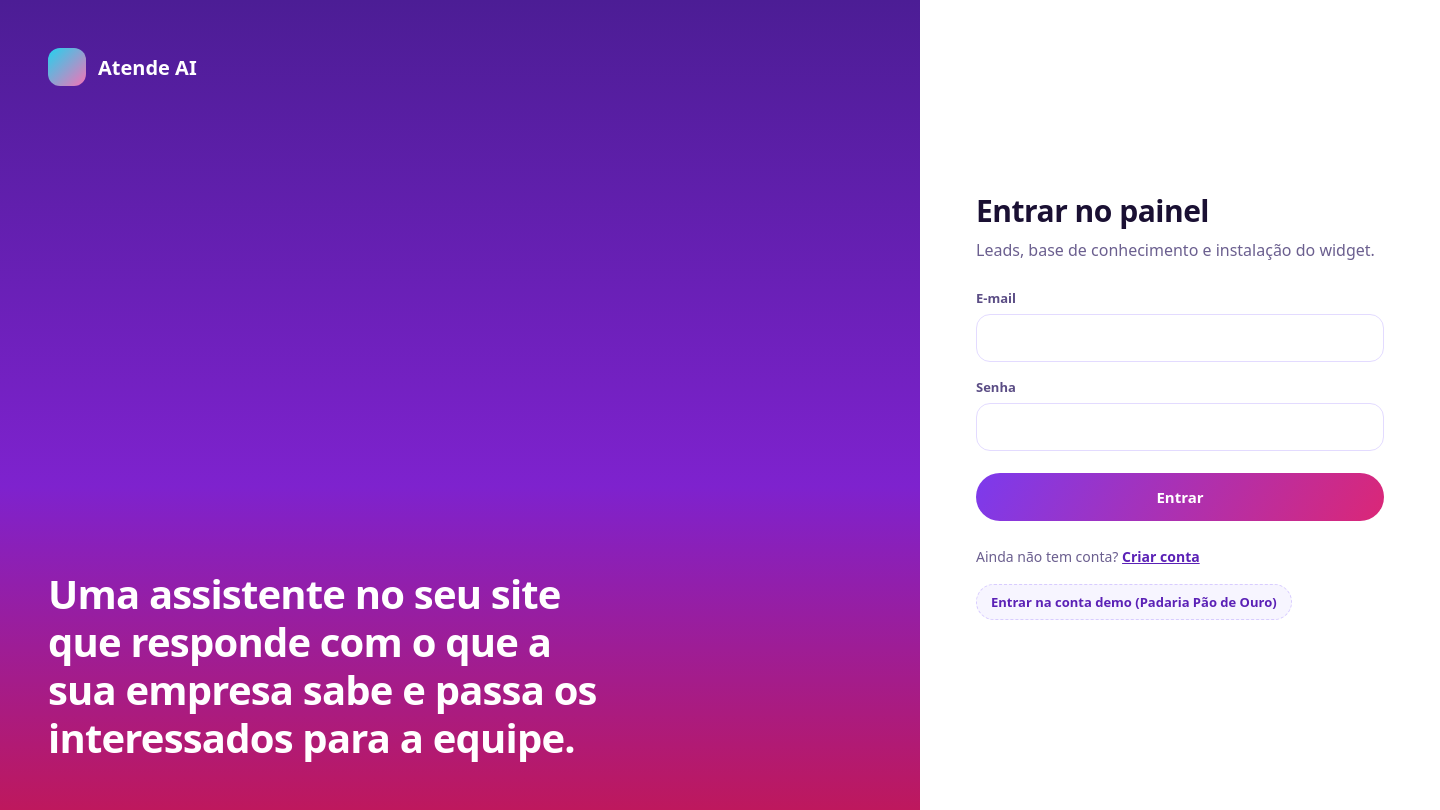
Scenario: acesso › sem login, manda para /entrar; ao entrar, volta para onde ia
In the field labelled "E-mail": (1180, 338) [976,314,1384,362], type "demo@x.com"
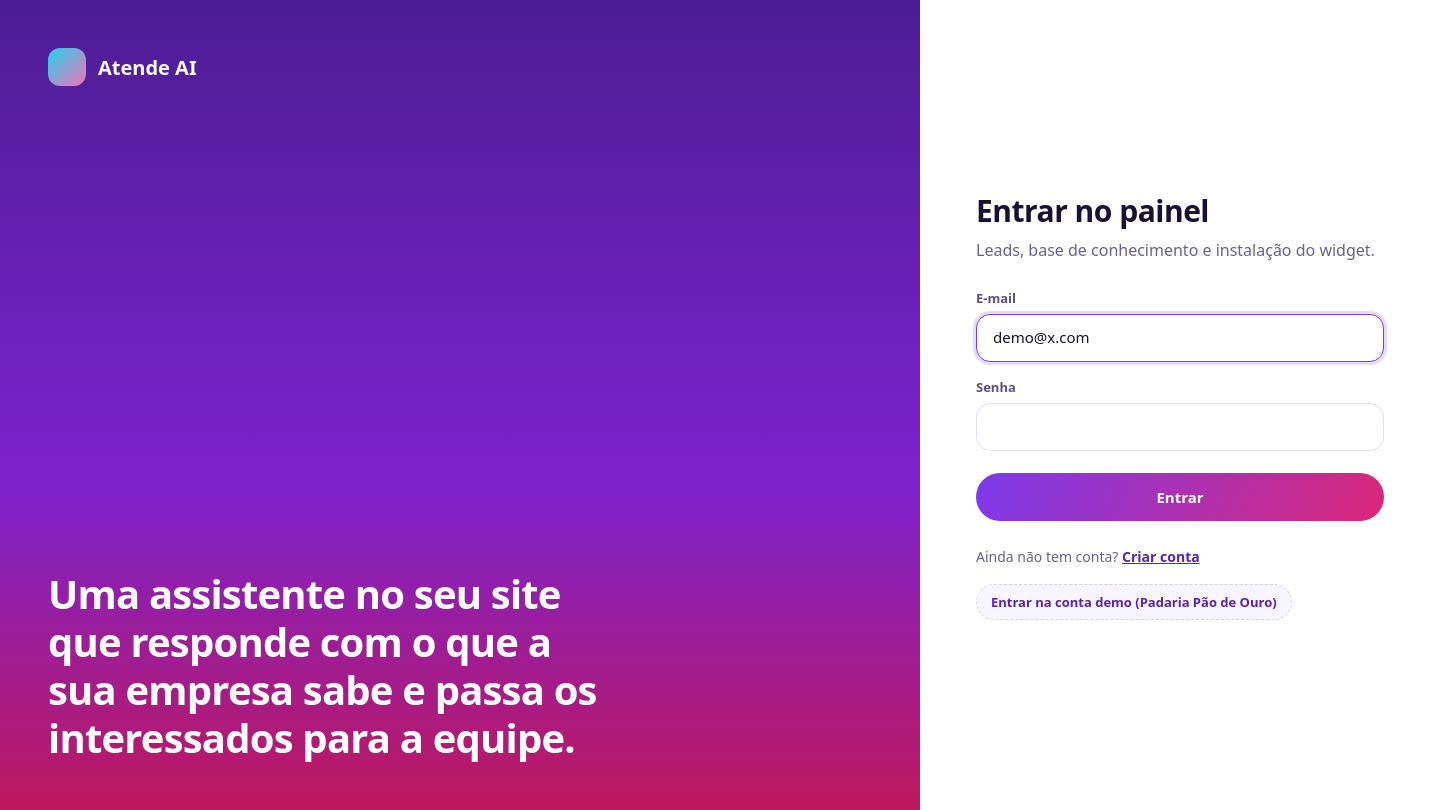
In the password field labelled "Senha": (1180, 427) [976,403,1384,451], type "demo12345"
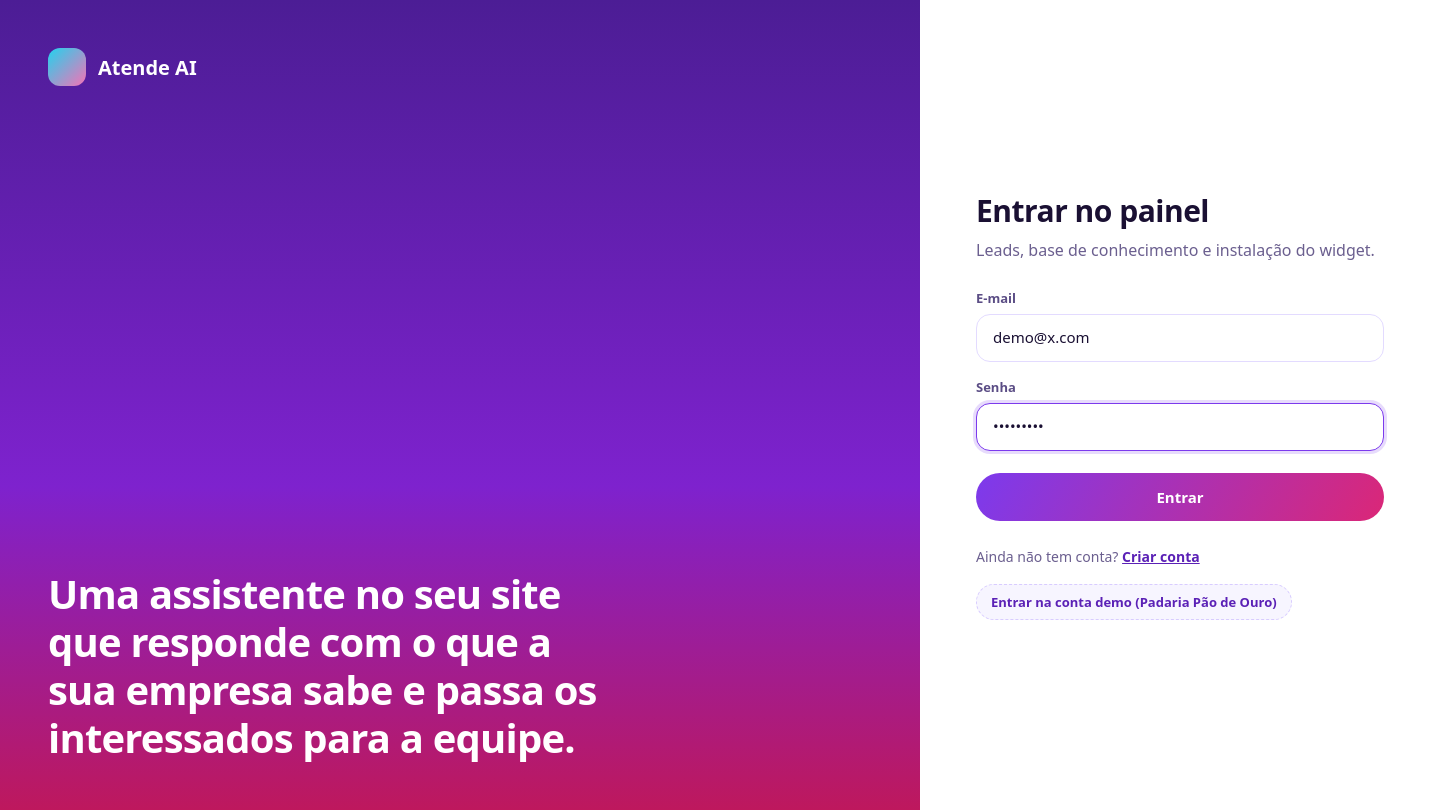
Click the button "Entrar": (1180, 497) [976,473,1384,521]
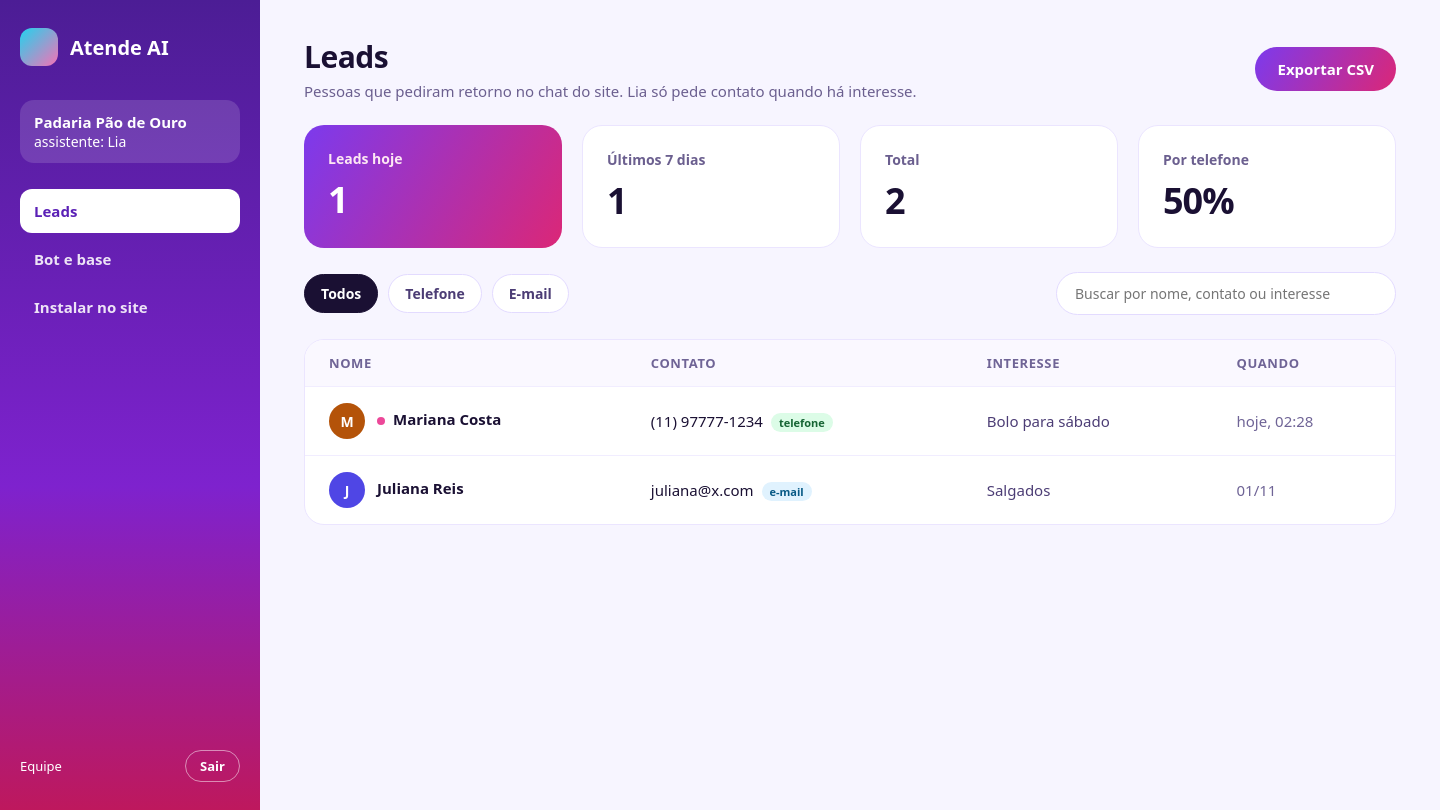
Expected: the heading "Leads" is shown, [304,36,388,77]
